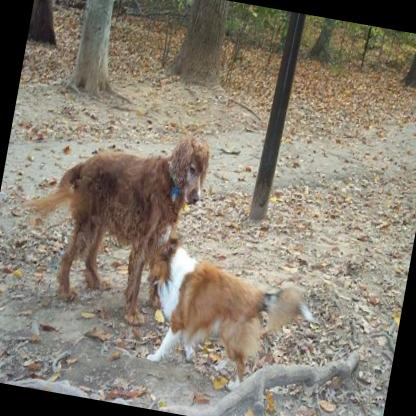Irish_setter: (5, 104, 214, 332), (126, 221, 326, 403)
